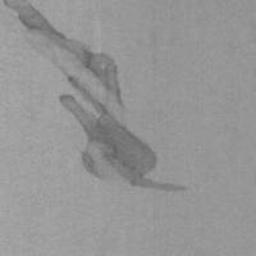Water spot: (0, 0, 189, 193)
